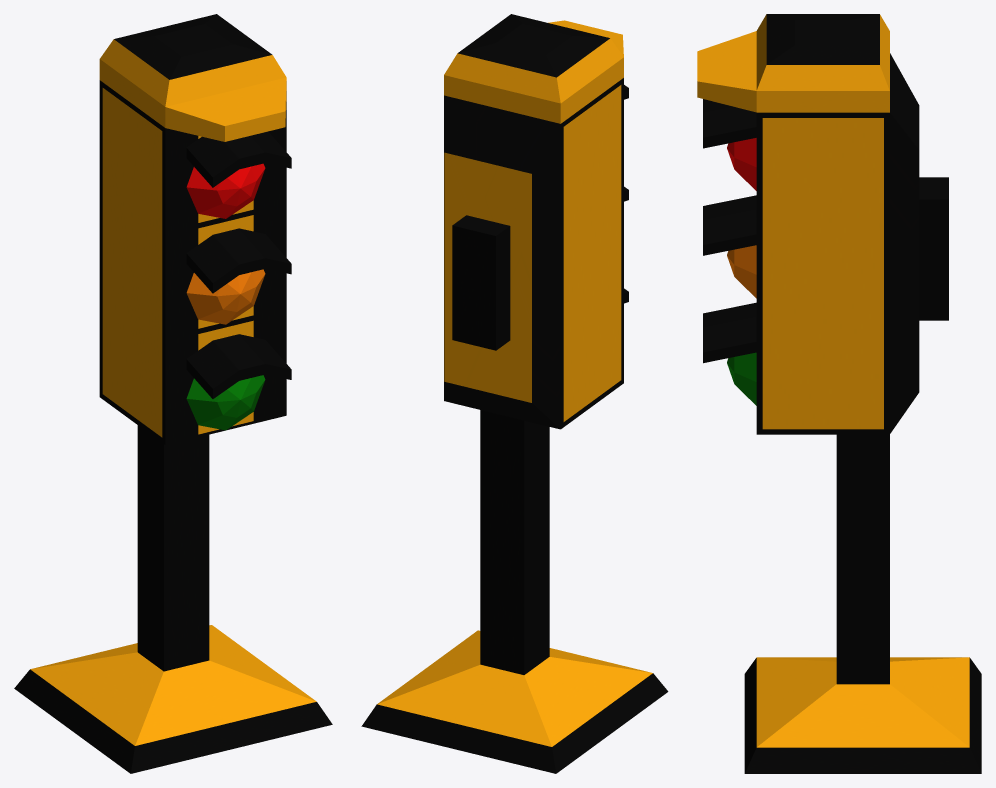
The model's file is TrafficLight.gltf.
The picture shows the model from 3 angles, left to right: view 1: azimuth 30°, elevation 25°; view 2: azimuth 150°, elevation 25°; view 3: azimuth 270°, elevation 25°; orthographic projection. The views are drawn at different scales.
Parts seen in each view (by area): view 1: TrafficLight; view 2: TrafficLight; view 3: TrafficLight.
Part boxes in pixels (bbox=[...]): TrafficLight: bbox=[14, 14, 332, 773]; TrafficLight: bbox=[361, 14, 668, 773]; TrafficLight: bbox=[697, 14, 981, 773].
Bounding box in the file's own units: 20 × 64.39 × 24.
5 materials, 5 textured.
